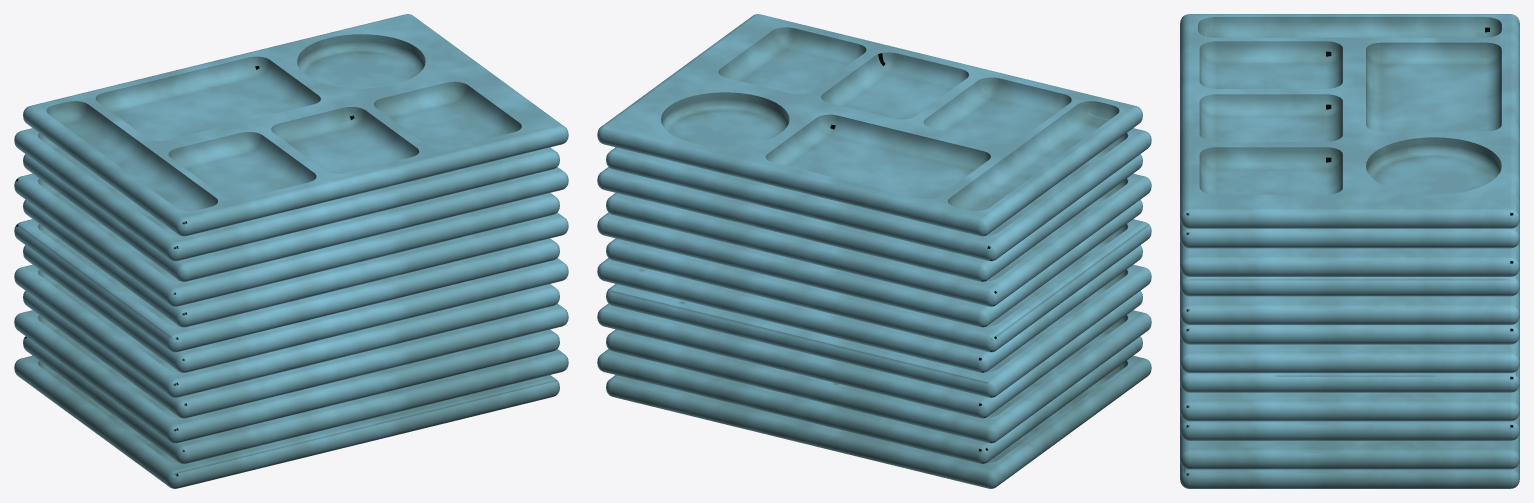
File: bandeja_pilha_sujo_realista.glb
3 renders of one model, left to right at view 1: azimuth 30°, elevation 25°; view 2: azimuth 150°, elevation 25°; view 3: azimuth 270°, elevation 25°, orthographic. The views are drawn at different scales.
Visible parts, largest first — view 1: Refeitorio_Bandeja.023, Refeitorio_Bandeja.012, Refeitorio_Bandeja.014, Refeitorio_Bandeja.020, Refeitorio_Bandeja.022, Refeitorio_Bandeja.016, Refeitorio_Bandeja.018, Refeitorio_Bandeja.019, Refeitorio_Bandeja.015, Refeitorio_Bandeja.013, Refeitorio_Bandeja.021, Refeitorio_Bandeja.017; view 2: Refeitorio_Bandeja.023, Refeitorio_Bandeja.012, Refeitorio_Bandeja.016, Refeitorio_Bandeja.020, Refeitorio_Bandeja.022, Refeitorio_Bandeja.014, Refeitorio_Bandeja.018, Refeitorio_Bandeja.015, Refeitorio_Bandeja.019, Refeitorio_Bandeja.021, Refeitorio_Bandeja.013, Refeitorio_Bandeja.017; view 3: Refeitorio_Bandeja.023, Refeitorio_Bandeja.015, Refeitorio_Bandeja.017, Refeitorio_Bandeja.013, Refeitorio_Bandeja.021, Refeitorio_Bandeja.019, Refeitorio_Bandeja.022, Refeitorio_Bandeja.014, Refeitorio_Bandeja.016, Refeitorio_Bandeja.018, Refeitorio_Bandeja.020, Refeitorio_Bandeja.012.
Boxes of the visible parts, left/top/right/bottom form: Refeitorio_Bandeja.023: left=23, top=14, right=568, bottom=236; Refeitorio_Bandeja.012: left=14, top=355, right=559, bottom=488; Refeitorio_Bandeja.014: left=14, top=310, right=559, bottom=443; Refeitorio_Bandeja.020: left=14, top=173, right=559, bottom=306; Refeitorio_Bandeja.022: left=14, top=128, right=559, bottom=261; Refeitorio_Bandeja.016: left=14, top=264, right=559, bottom=397; Refeitorio_Bandeja.018: left=14, top=219, right=559, bottom=352; Refeitorio_Bandeja.019: left=23, top=199, right=568, bottom=327; Refeitorio_Bandeja.015: left=23, top=291, right=568, bottom=418; Refeitorio_Bandeja.013: left=23, top=336, right=568, bottom=463; Refeitorio_Bandeja.021: left=23, top=154, right=568, bottom=281; Refeitorio_Bandeja.017: left=23, top=245, right=568, bottom=372; Refeitorio_Bandeja.023: left=597, top=14, right=1142, bottom=236; Refeitorio_Bandeja.012: left=606, top=355, right=1151, bottom=488; Refeitorio_Bandeja.016: left=606, top=264, right=1151, bottom=397; Refeitorio_Bandeja.020: left=606, top=173, right=1151, bottom=306; Refeitorio_Bandeja.022: left=606, top=128, right=1151, bottom=261; Refeitorio_Bandeja.014: left=606, top=310, right=1151, bottom=443; Refeitorio_Bandeja.018: left=606, top=219, right=1151, bottom=352; Refeitorio_Bandeja.015: left=597, top=291, right=1142, bottom=418; Refeitorio_Bandeja.019: left=597, top=199, right=1142, bottom=327; Refeitorio_Bandeja.021: left=597, top=154, right=1142, bottom=281; Refeitorio_Bandeja.013: left=597, top=336, right=1142, bottom=463; Refeitorio_Bandeja.017: left=597, top=245, right=1142, bottom=372; Refeitorio_Bandeja.023: left=1180, top=14, right=1519, bottom=228; Refeitorio_Bandeja.015: left=1180, top=384, right=1519, bottom=421; Refeitorio_Bandeja.017: left=1180, top=336, right=1519, bottom=373; Refeitorio_Bandeja.013: left=1180, top=432, right=1519, bottom=469; Refeitorio_Bandeja.021: left=1180, top=239, right=1519, bottom=276; Refeitorio_Bandeja.019: left=1180, top=288, right=1519, bottom=324; Refeitorio_Bandeja.022: left=1180, top=220, right=1519, bottom=248; Refeitorio_Bandeja.014: left=1180, top=412, right=1519, bottom=440; Refeitorio_Bandeja.016: left=1180, top=364, right=1519, bottom=392; Refeitorio_Bandeja.018: left=1180, top=316, right=1519, bottom=344; Refeitorio_Bandeja.020: left=1180, top=268, right=1519, bottom=296; Refeitorio_Bandeja.012: left=1180, top=460, right=1519, bottom=488.
Size of the model in its own units: 0.46 by 0.295 by 0.32.
1 material, 1 textured.
